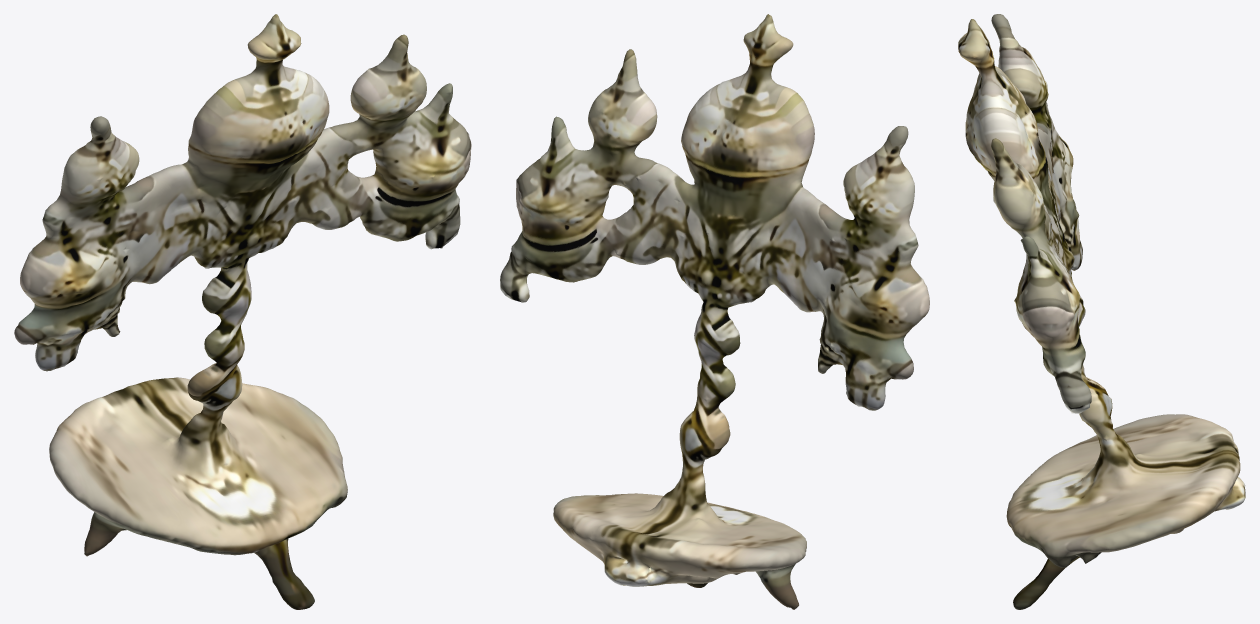
Rendered from kfl-2296.glb.
The picture shows the model from 3 angles, left to right: view 1: azimuth 30°, elevation 25°; view 2: azimuth 150°, elevation 25°; view 3: azimuth 270°, elevation 25°; orthographic projection. The views are drawn at different scales.
Visible parts, largest first — view 1: kfl-2296; view 2: kfl-2296; view 3: kfl-2296.
Part boxes in pixels (x1=…): kfl-2296: x1=14, y1=14, x2=471, y2=609; kfl-2296: x1=500, y1=14, x2=929, y2=609; kfl-2296: x1=958, y1=14, x2=1245, y2=609.
Bounding box in the file's own units: 0.7477 × 0.9862 × 0.4539.
Materials: 1 (1 with a texture image).
